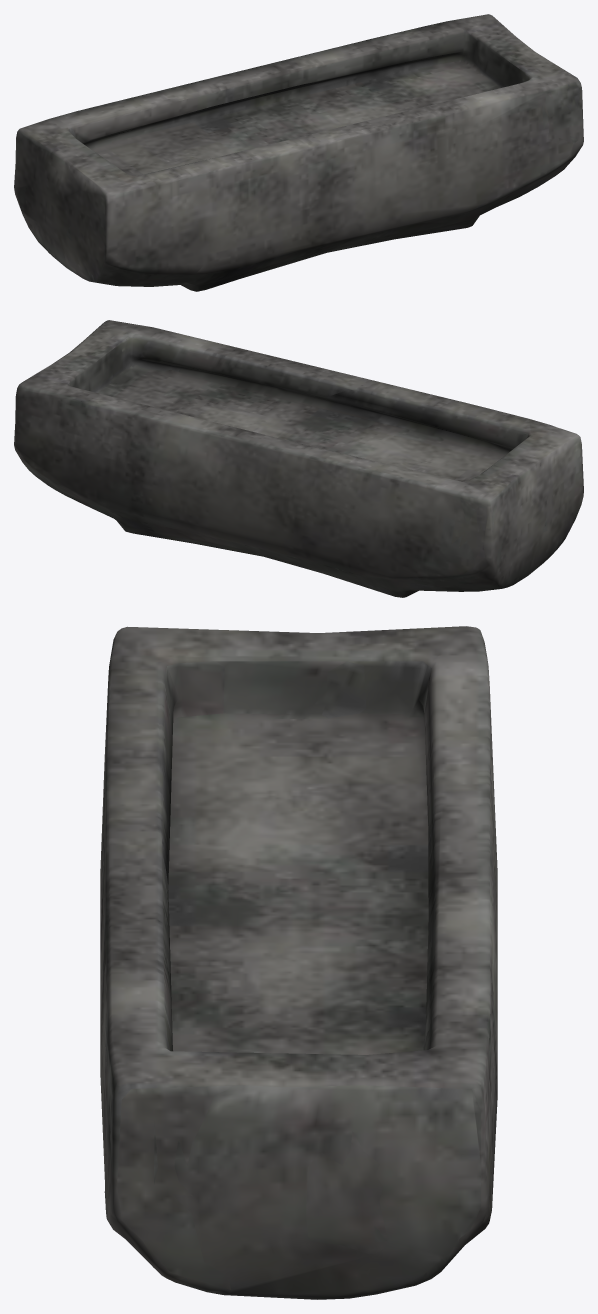
The model's file is chipped-granite-trough-v001.glb.
3 renders of one model, top to bottom at view 1: azimuth 30°, elevation 25°; view 2: azimuth 150°, elevation 25°; view 3: azimuth 270°, elevation 25°, orthographic. The views are drawn at different scales.
Visible parts, largest first — view 1: chipped-granite-trough; view 2: chipped-granite-trough; view 3: chipped-granite-trough.
Boxes of the visible parts, x1,y1,x2,y2 form: chipped-granite-trough: (14, 14, 583, 291); chipped-granite-trough: (14, 320, 583, 597); chipped-granite-trough: (100, 626, 497, 1299).
Size of the model in its own units: 2.39 by 0.6372 by 0.8594.
1 material, 1 textured.
